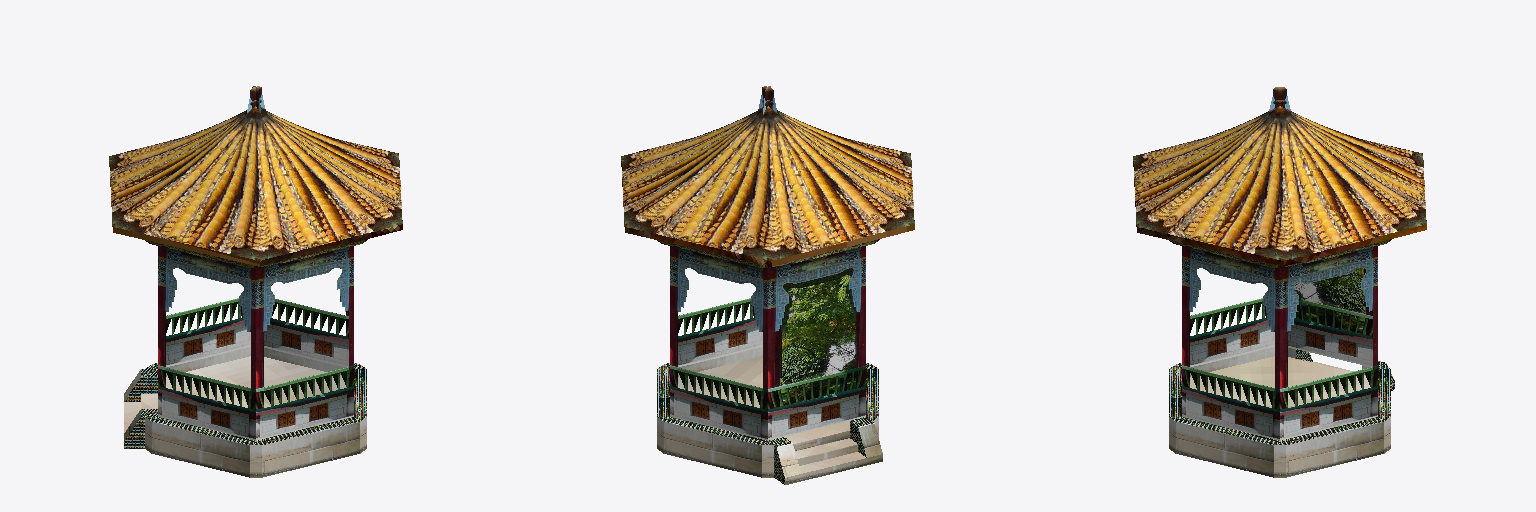
3 renders of one model, left to right at view 1: azimuth 30°, elevation 25°; view 2: azimuth 150°, elevation 25°; view 3: azimuth 270°, elevation 25°, orthographic.
Visible parts, largest first — view 1: Mesh44 Component2_3 skp628F1 Component_1_1 Model, Mesh55 Component2_4 skp628F1 Component_1_1 Model, Mesh59 Component3_4 skp628F1 Component_1_1 Model, Mesh56 Component3_1 skp628F1 Component_1_1 Model, Mesh58 Component3_3 skp628F1 Component_1_1 Model, Mesh71 skp628F1 Component_1_1 Model, Mesh22 Component2_1 skp628F1 Component_1_1 Model, Mesh33 Component2_2 skp628F1 Component_1_1 Model, Mesh57 Component3_2 skp628F1 Component_1_1 Model, Mesh61 Component3_6 skp628F1 Component_1_1 Model, Mesh70 skp628F1 Component_1_1 Model, Mesh11 Component1 skp628F1 Component_1_1 Model; view 2: Mesh71 skp628F1 Component_1_1 Model, Mesh33 Component2_2 skp628F1 Component_1_1 Model, Mesh57 Component3_2 skp628F1 Component_1_1 Model, Mesh60 Component3_5 skp628F1 Component_1_1 Model, Mesh56 Component3_1 skp628F1 Component_1_1 Model, Mesh11 Component1 skp628F1 Component_1_1 Model, Mesh61 Component3_6 skp628F1 Component_1_1 Model, Mesh59 Component3_4 skp628F1 Component_1_1 Model, Mesh70 skp628F1 Component_1_1 Model, Mesh55 Component2_4 skp628F1 Component_1_1 Model, Mesh22 Component2_1 skp628F1 Component_1_1 Model; view 3: Mesh22 Component2_1 skp628F1 Component_1_1 Model, Mesh11 Component1 skp628F1 Component_1_1 Model, Mesh61 Component3_6 skp628F1 Component_1_1 Model, Mesh71 skp628F1 Component_1_1 Model, Mesh58 Component3_3 skp628F1 Component_1_1 Model, Mesh60 Component3_5 skp628F1 Component_1_1 Model, Mesh55 Component2_4 skp628F1 Component_1_1 Model, Mesh59 Component3_4 skp628F1 Component_1_1 Model, Mesh57 Component3_2 skp628F1 Component_1_1 Model, Mesh70 skp628F1 Component_1_1 Model, Mesh33 Component2_2 skp628F1 Component_1_1 Model, Mesh44 Component2_3 skp628F1 Component_1_1 Model.
Boxes of the visible parts, x1=… form: Mesh44 Component2_3 skp628F1 Component_1_1 Model: x1=248, y1=241, x2=361, y2=477; Mesh55 Component2_4 skp628F1 Component_1_1 Model: x1=145, y1=240, x2=255, y2=477; Mesh59 Component3_4 skp628F1 Component_1_1 Model: x1=186, y1=107, x2=330, y2=260; Mesh56 Component3_1 skp628F1 Component_1_1 Model: x1=111, y1=106, x2=255, y2=243; Mesh58 Component3_3 skp628F1 Component_1_1 Model: x1=261, y1=110, x2=402, y2=242; Mesh71 skp628F1 Component_1_1 Model: x1=124, y1=356, x2=346, y2=448; Mesh22 Component2_1 skp628F1 Component_1_1 Model: x1=264, y1=311, x2=365, y2=375; Mesh33 Component2_2 skp628F1 Component_1_1 Model: x1=152, y1=318, x2=250, y2=376; Mesh57 Component3_2 skp628F1 Component_1_1 Model: x1=109, y1=110, x2=246, y2=190; Mesh61 Component3_6 skp628F1 Component_1_1 Model: x1=261, y1=108, x2=400, y2=188; Mesh70 skp628F1 Component_1_1 Model: x1=109, y1=161, x2=402, y2=266; Mesh11 Component1 skp628F1 Component_1_1 Model: x1=354, y1=239, x2=367, y2=453; Mesh71 skp628F1 Component_1_1 Model: x1=678, y1=241, x2=882, y2=484; Mesh33 Component2_2 skp628F1 Component_1_1 Model: x1=657, y1=240, x2=767, y2=477; Mesh57 Component3_2 skp628F1 Component_1_1 Model: x1=698, y1=107, x2=842, y2=260; Mesh60 Component3_5 skp628F1 Component_1_1 Model: x1=623, y1=110, x2=762, y2=243; Mesh56 Component3_1 skp628F1 Component_1_1 Model: x1=768, y1=106, x2=914, y2=242; Mesh11 Component1 skp628F1 Component_1_1 Model: x1=664, y1=318, x2=762, y2=376; Mesh61 Component3_6 skp628F1 Component_1_1 Model: x1=621, y1=108, x2=762, y2=190; Mesh59 Component3_4 skp628F1 Component_1_1 Model: x1=777, y1=110, x2=912, y2=188; Mesh70 skp628F1 Component_1_1 Model: x1=621, y1=161, x2=914, y2=266; Mesh55 Component2_4 skp628F1 Component_1_1 Model: x1=866, y1=239, x2=879, y2=437; Mesh22 Component2_1 skp628F1 Component_1_1 Model: x1=657, y1=365, x2=669, y2=416; Mesh22 Component2_1 skp628F1 Component_1_1 Model: x1=1272, y1=241, x2=1385, y2=477; Mesh11 Component1 skp628F1 Component_1_1 Model: x1=1169, y1=240, x2=1279, y2=477; Mesh61 Component3_6 skp628F1 Component_1_1 Model: x1=1210, y1=107, x2=1354, y2=260; Mesh71 skp628F1 Component_1_1 Model: x1=1190, y1=268, x2=1394, y2=407; Mesh58 Component3_3 skp628F1 Component_1_1 Model: x1=1135, y1=106, x2=1279, y2=243; Mesh60 Component3_5 skp628F1 Component_1_1 Model: x1=1280, y1=106, x2=1426, y2=242; Mesh55 Component2_4 skp628F1 Component_1_1 Model: x1=1176, y1=318, x2=1274, y2=376; Mesh59 Component3_4 skp628F1 Component_1_1 Model: x1=1133, y1=111, x2=1269, y2=190; Mesh57 Component3_2 skp628F1 Component_1_1 Model: x1=1289, y1=111, x2=1424, y2=188; Mesh70 skp628F1 Component_1_1 Model: x1=1133, y1=161, x2=1426, y2=266; Mesh33 Component2_2 skp628F1 Component_1_1 Model: x1=1378, y1=239, x2=1391, y2=453; Mesh44 Component2_3 skp628F1 Component_1_1 Model: x1=1169, y1=365, x2=1181, y2=416.
Size of the model in its own units: 210 by 234 by 184.
Materials: 4 (2 with a texture image).